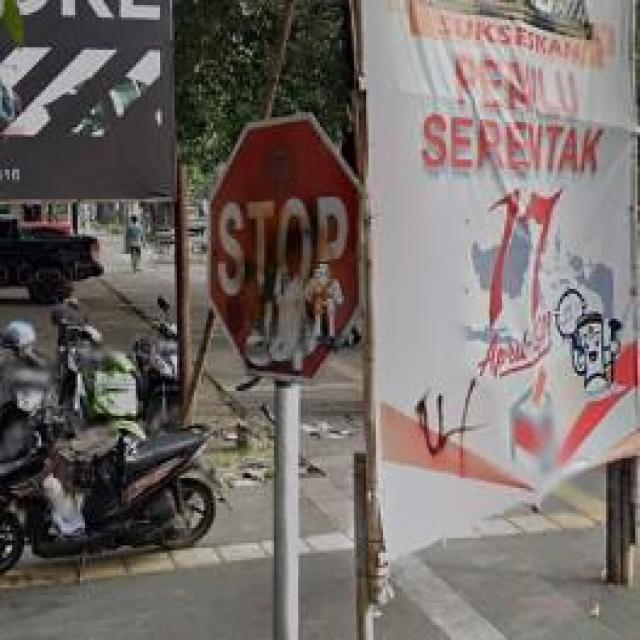traffic sign: (209, 115, 364, 379)
